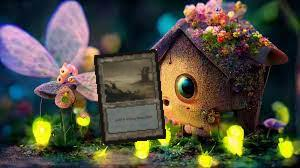mtgCard: (93, 48, 167, 146)
